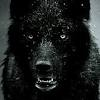Lobo: (3, 3, 93, 93)
